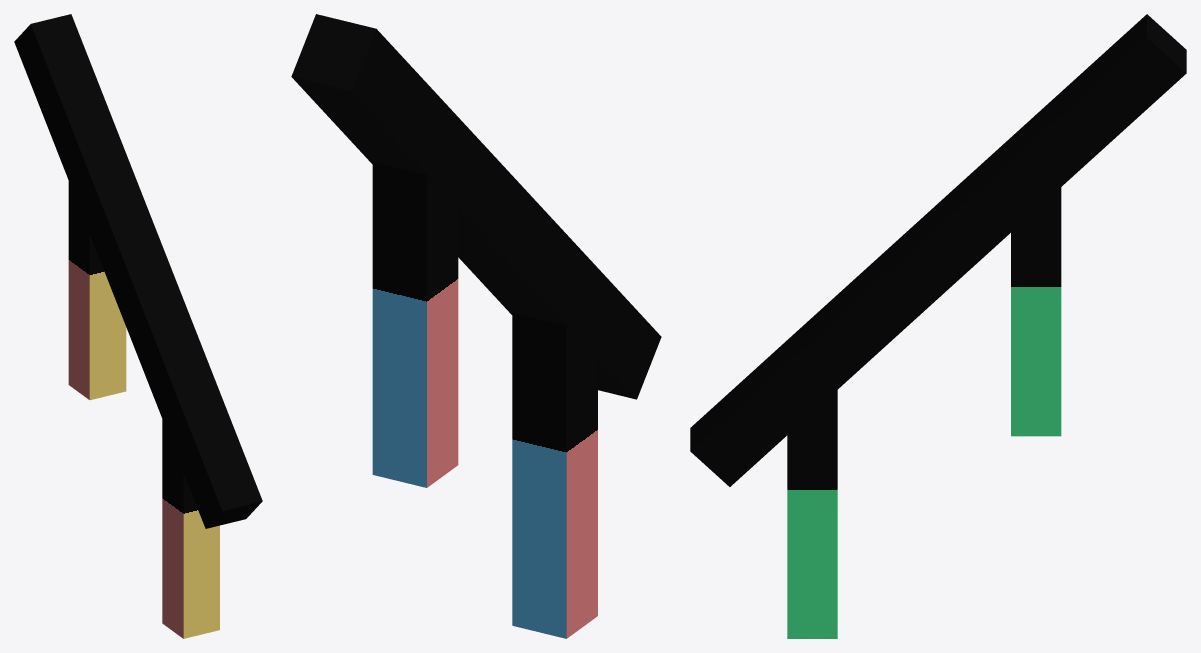
File: handrail.obj
The picture shows the model from 3 angles, left to right: view 1: azimuth 30°, elevation 25°; view 2: azimuth 150°, elevation 25°; view 3: azimuth 270°, elevation 25°; orthographic projection. The views are drawn at different scales.
Parts seen in each view (by area): view 1: handrail; view 2: handrail; view 3: handrail.
Boxes of the visible parts, <box> form: handrail: <box>14,14,262,638</box>; handrail: <box>291,14,661,638</box>; handrail: <box>690,14,1186,638</box>.
Bounding box in the file's own units: 0.125 × 1.49 × 1.11.
